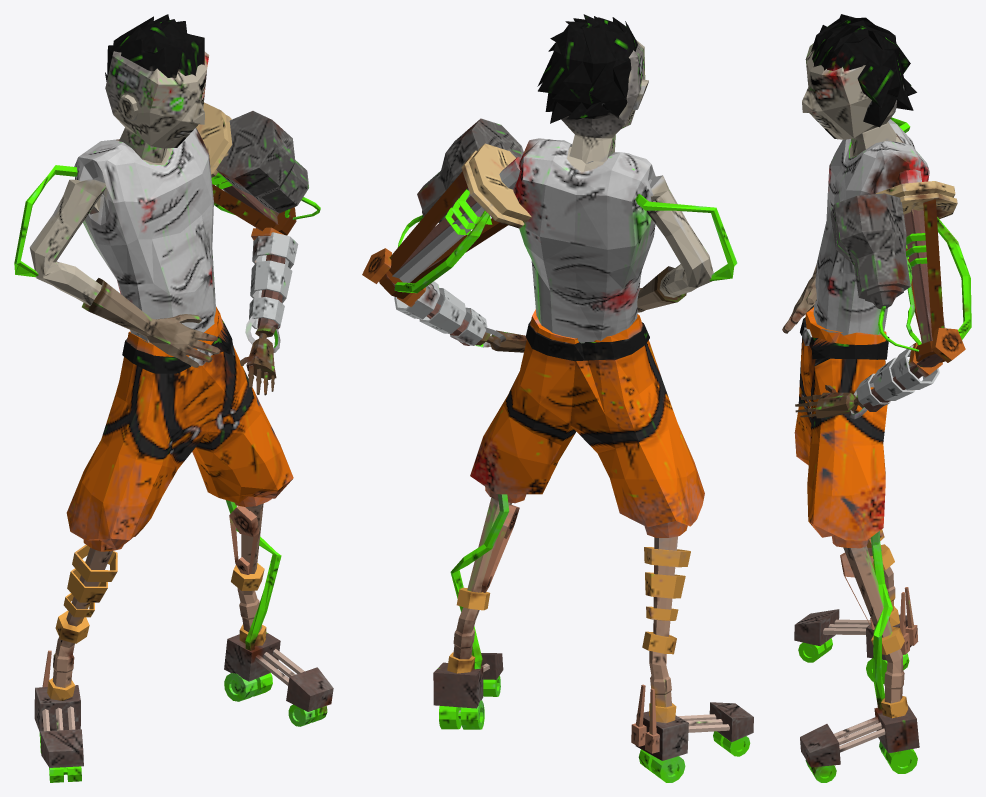
File: CyborgFINALAnimation_000082.obj
3 views of the same model, side by side, from view 1: azimuth 30°, elevation 25°; view 2: azimuth 150°, elevation 25°; view 3: azimuth 270°, elevation 25° (orthographic). The views are drawn at different scales.
Parts seen in each view (by area): view 1: CyborgMesh_Cube.002; view 2: CyborgMesh_Cube.002; view 3: CyborgMesh_Cube.002.
Boxes of the visible parts, left/top/right/bottom form: CyborgMesh_Cube.002: left=14, top=14, right=333, bottom=782; CyborgMesh_Cube.002: left=362, top=14, right=753, bottom=782; CyborgMesh_Cube.002: left=782, top=14, right=971, bottom=782.
Bounding box in the file's own units: 4.52 × 9.6 × 2.36.
